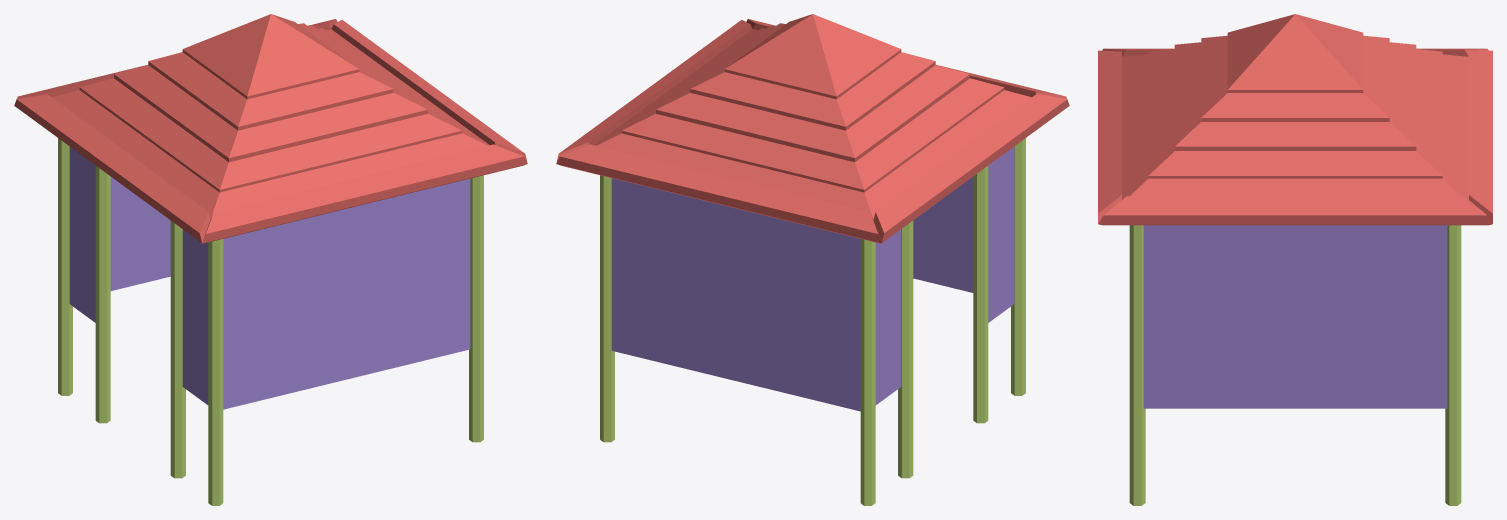
Rendered from Small Hut1.fbx.
3 views of the same model, side by side, from view 1: azimuth 30°, elevation 25°; view 2: azimuth 150°, elevation 25°; view 3: azimuth 270°, elevation 25° (orthographic). The views are drawn at different scales.
Parts seen in each view (by area): view 1: Plane.002; view 2: Plane.002; view 3: Plane.002.
Part boxes in pixels (x1,y1,x2,y2): Plane.002: [14, 14, 527, 505]; Plane.002: [556, 14, 1069, 505]; Plane.002: [1098, 14, 1492, 505].
Size of the model in its own units: 500 by 590 by 500.
